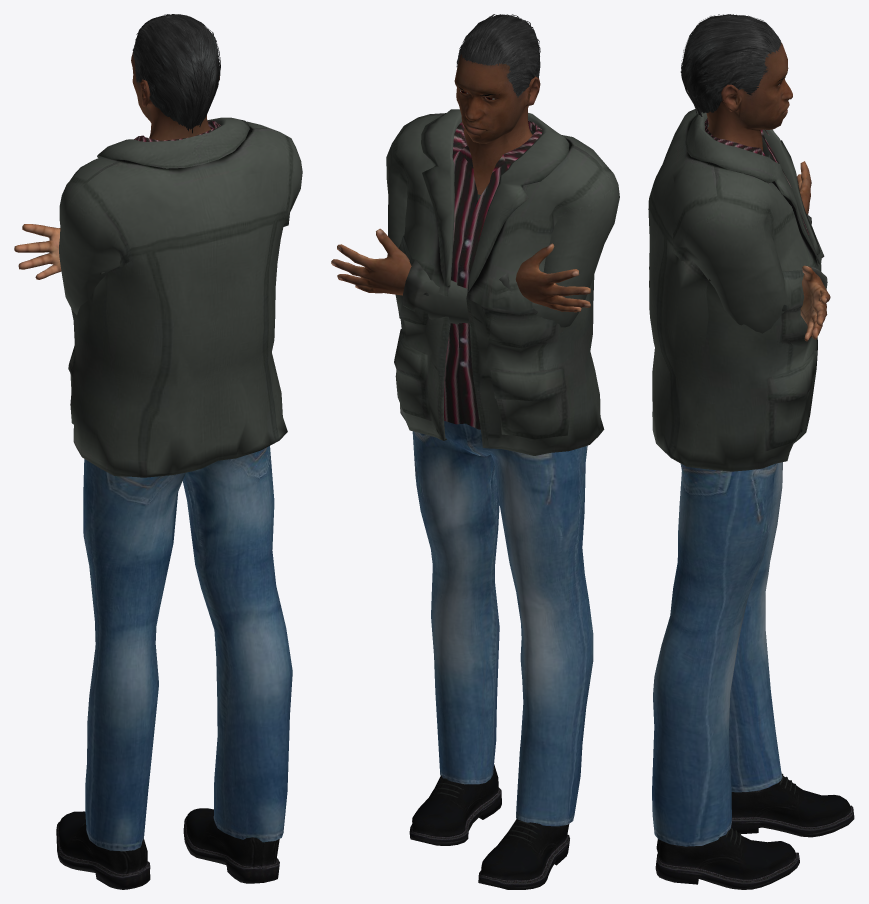
The model's file is arms_crossed_4.gltf.
3 renders of one model, left to right at view 1: azimuth 30°, elevation 25°; view 2: azimuth 150°, elevation 25°; view 3: azimuth 270°, elevation 25°, orthographic. The views are drawn at different scales.
Parts seen in each view (by area): view 1: arms_crossed; view 2: arms_crossed; view 3: arms_crossed.
Boxes of the visible parts, x1,y1,x2,y2 form: arms_crossed: (14, 14, 302, 889); arms_crossed: (331, 14, 619, 889); arms_crossed: (648, 14, 854, 889).
Size of the model in its own units: 0.5874 by 1.85 by 0.4139.
6 materials, 6 textured.
